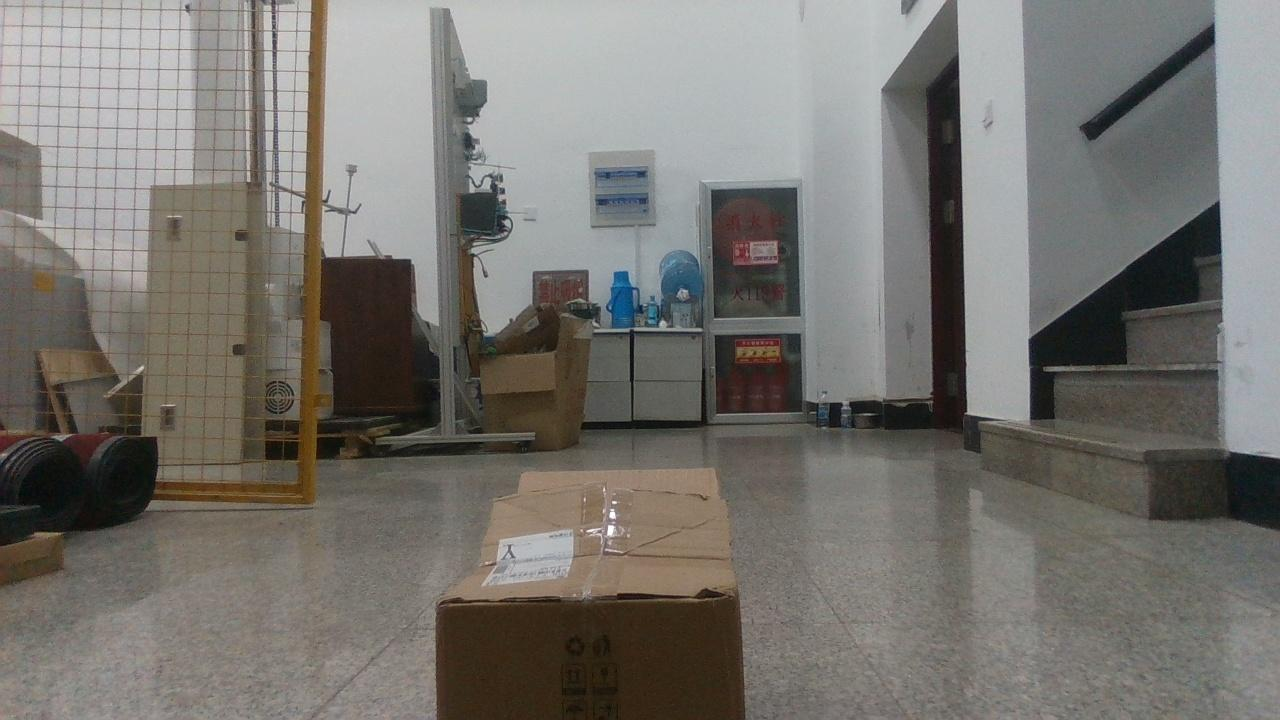box: (438, 470, 745, 719)
